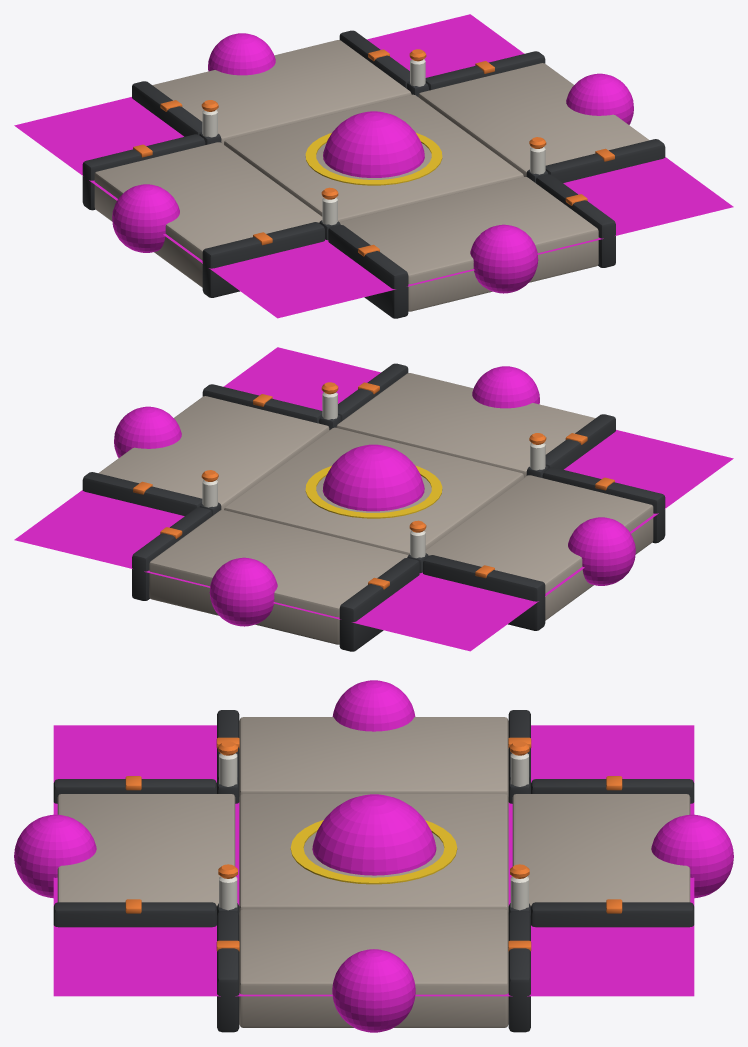
The model's file is path_4.gltf.
3 views of the same model, one above another, from view 1: azimuth 30°, elevation 25°; view 2: azimuth 150°, elevation 25°; view 3: azimuth 270°, elevation 25° (orthographic). The views are drawn at different scales.
Parts seen in each view (by area): view 1: PathJunction, %P%Footprint, %P%Center, %P%AnchorOut.002, %P%AnchorOut, %P%AnchorOut.001, %P%AnchorOut.003; view 2: PathJunction, %P%Footprint, %P%Center, %P%AnchorOut.003, %P%AnchorOut, %P%AnchorOut.001, %P%AnchorOut.002; view 3: PathJunction, %P%Footprint, %P%Center, %P%AnchorOut.001, %P%AnchorOut.002, %P%AnchorOut.003, %P%AnchorOut.
Part boxes in pixels (<box>): PathJunction: <box>82,30,665,318</box>; %P%Footprint: <box>14,14,733,318</box>; %P%Center: <box>323,111,424,177</box>; %P%AnchorOut.002: <box>470,224,538,293</box>; %P%AnchorOut: <box>112,184,179,252</box>; %P%AnchorOut.001: <box>566,73,633,124</box>; %P%AnchorOut.003: <box>208,33,275,75</box>; PathJunction: <box>82,363,665,651</box>; %P%Footprint: <box>14,347,733,651</box>; %P%Center: <box>322,444,424,511</box>; %P%AnchorOut.003: <box>209,557,277,626</box>; %P%AnchorOut: <box>568,517,635,585</box>; %P%AnchorOut.001: <box>114,406,181,457</box>; %P%AnchorOut.002: <box>472,366,539,408</box>; PathJunction: <box>53,710,694,1032</box>; %P%Footprint: <box>53,725,694,996</box>; %P%Center: <box>312,794,436,875</box>; %P%AnchorOut.001: <box>332,949,415,1032</box>; %P%AnchorOut.002: <box>14,814,96,898</box>; %P%AnchorOut.003: <box>651,814,733,898</box>; %P%AnchorOut: <box>332,680,415,731</box>.
Size of the model in its own units: 2.25 by 0.3925 by 2.25.
